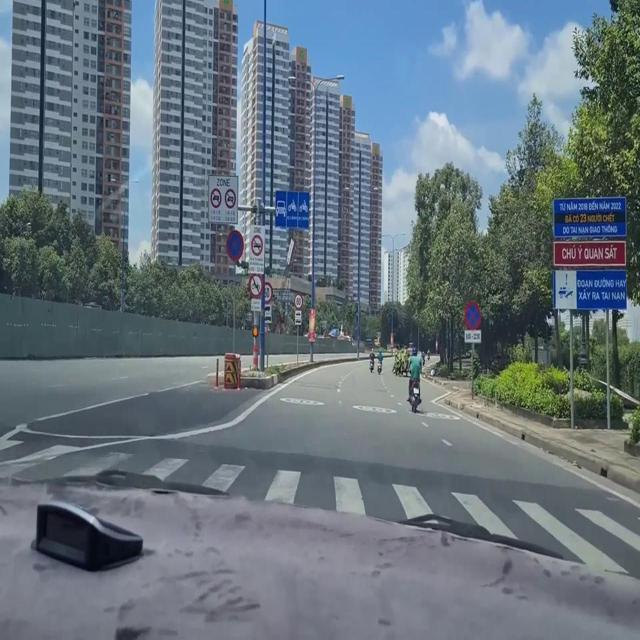Biển phụ: (460, 326, 484, 343), (261, 301, 271, 327), (292, 307, 304, 327), (247, 295, 261, 311)
Cấm các phương tiện hoạt động trong khung giờ cố định: (204, 161, 242, 223), (244, 221, 266, 276)
Cấm dừng - Cấm đỗ: (460, 287, 483, 328), (224, 221, 243, 266)
Cấm xe máy: (247, 274, 263, 294)
Giới hạn tốc độ: 60Km/h: (262, 276, 276, 302)
Giới hạn tốc độ: 80Km/h: (292, 288, 303, 311)
Khác: (550, 185, 628, 317)
Làn đường cho từng xe: (269, 179, 312, 233)
